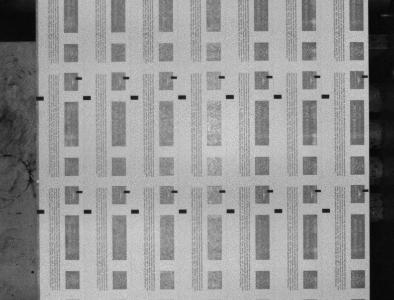backgroundclutter: (31, 270, 35, 273), (37, 180, 40, 183)
qblock: (322, 208, 331, 213), (130, 95, 139, 100), (84, 209, 92, 214), (131, 209, 139, 214), (37, 209, 45, 214), (274, 94, 282, 99), (275, 209, 283, 213), (179, 209, 187, 213), (226, 95, 234, 99), (227, 209, 235, 213), (178, 95, 186, 99), (83, 96, 91, 100), (36, 96, 44, 100), (322, 94, 330, 98)
smallqblock: (267, 189, 274, 193), (218, 75, 225, 79), (267, 75, 273, 79), (362, 75, 369, 78), (314, 75, 321, 78), (75, 77, 82, 80), (123, 76, 130, 79), (76, 190, 83, 193), (171, 76, 178, 79), (220, 190, 226, 193), (363, 189, 369, 192), (172, 190, 178, 193), (124, 190, 130, 193), (315, 189, 321, 192)
